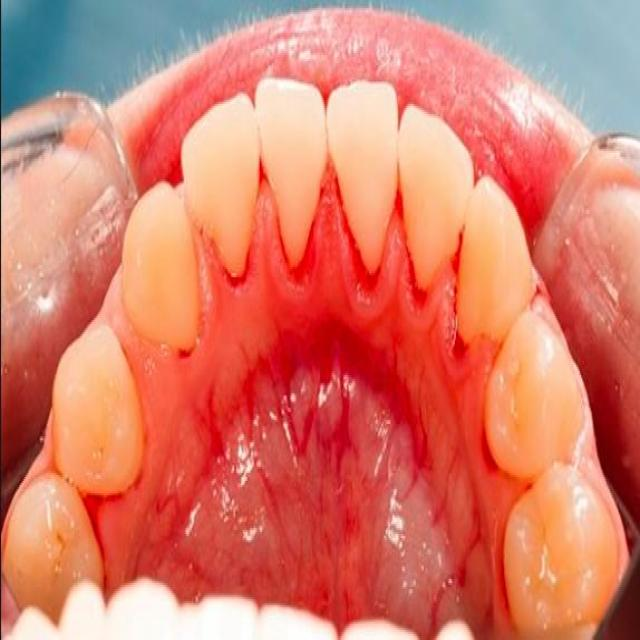1st Premolar: (486, 310, 583, 483), (50, 328, 145, 495)
2nd Premolar: (506, 466, 618, 632), (4, 466, 105, 627)
Canine: (121, 179, 203, 354), (456, 175, 533, 342)
Central Incisor: (255, 75, 328, 269), (327, 82, 399, 273)
Lateral Incisor: (397, 100, 475, 291), (182, 96, 260, 281)
